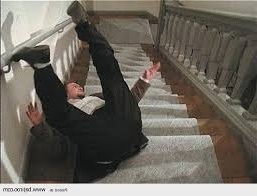fall: (11, 0, 162, 179)
